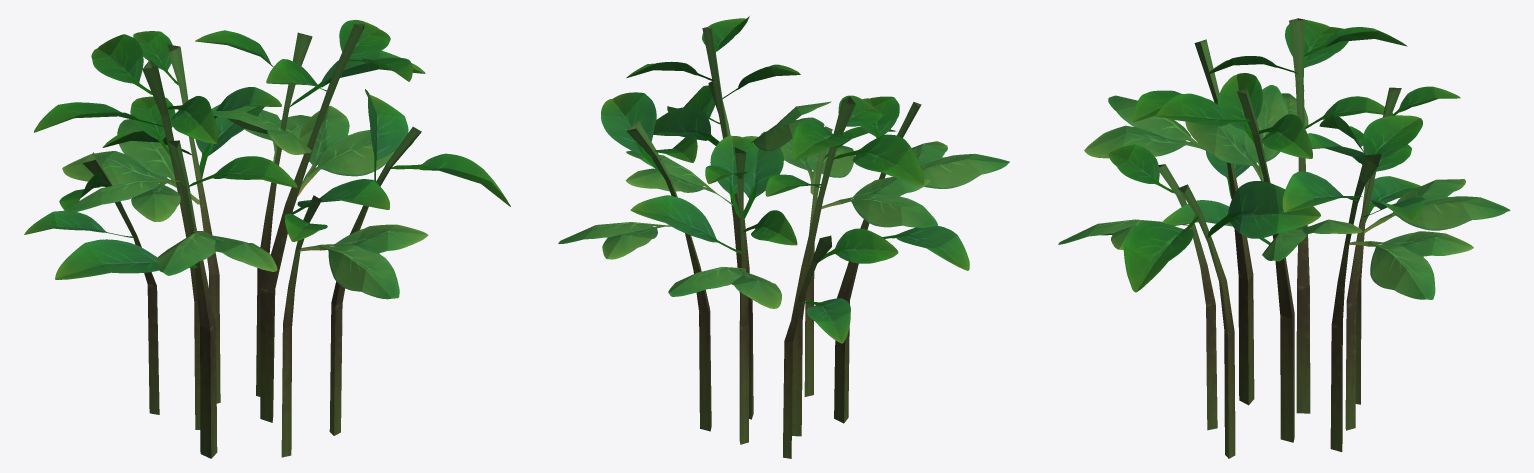
The model's file is P_FlowerAiqianniu_01.obj.
The picture shows the model from 3 angles, left to right: view 1: azimuth 30°, elevation 25°; view 2: azimuth 150°, elevation 25°; view 3: azimuth 270°, elevation 25°; orthographic projection. The views are drawn at different scales.
Bounding box in the file's own units: 0.7342 × 0.6794 × 0.7573.
Materials: 1 (1 with a texture image).
